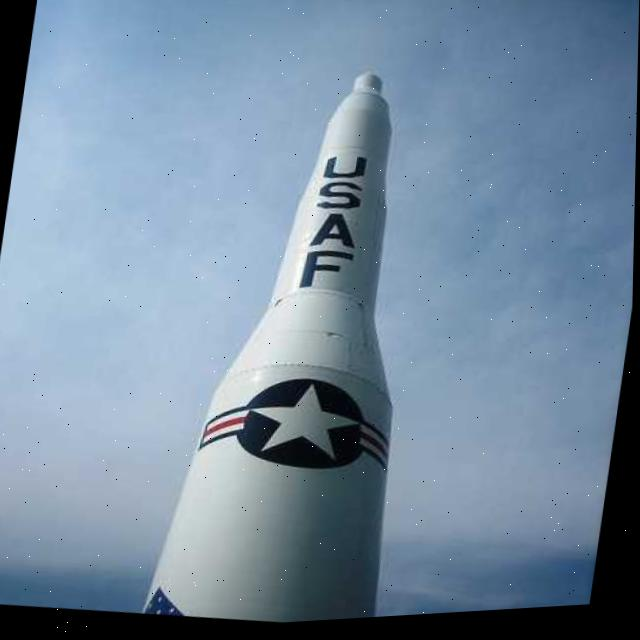missile: (140, 46, 456, 633)
